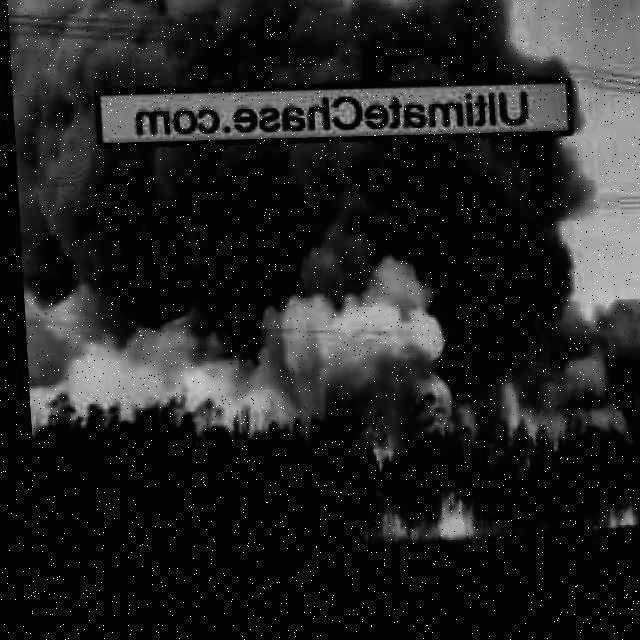Fire: (334, 423, 471, 549), (488, 366, 518, 454), (590, 501, 631, 534)
Smoke: (8, 124, 589, 419), (3, 0, 569, 102)
